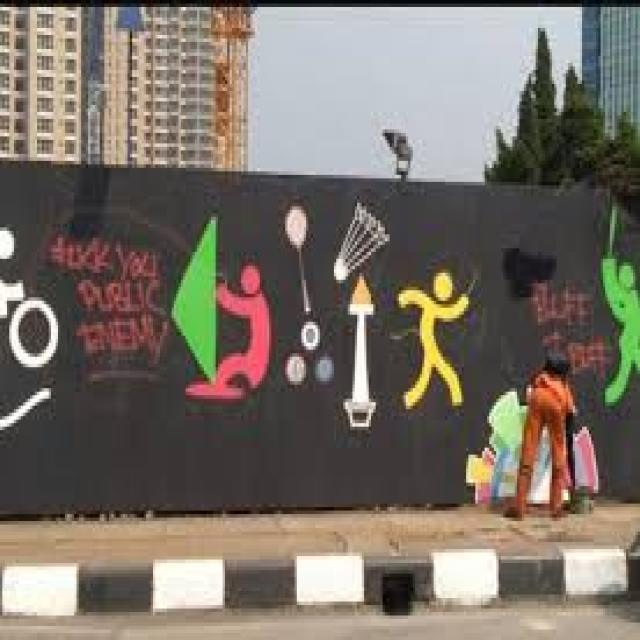-: (283, 200, 472, 426), (529, 197, 640, 401), (47, 233, 169, 391), (172, 215, 272, 405), (463, 390, 601, 508), (0, 228, 56, 444)
